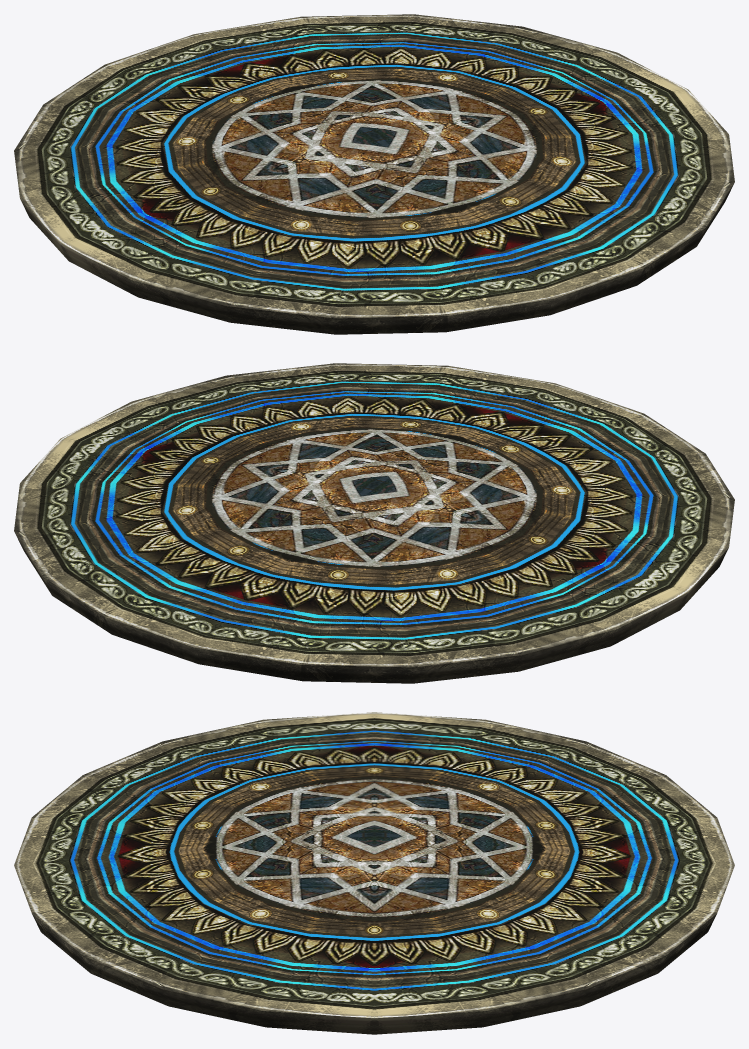
File: model_scene_mc_chassis_001.FBX
3 renders of one model, top to bottom at view 1: azimuth 30°, elevation 25°; view 2: azimuth 150°, elevation 25°; view 3: azimuth 270°, elevation 25°, orthographic.
Visible parts, largest first — view 1: Model; view 2: Model; view 3: Model.
Part boxes in pixels (x1,y1,x2,y2): Model: (14,14,734,334); Model: (14,363,734,683); Model: (14,712,734,1034).
Size of the model in its own units: 314 by 24.75 by 312.
